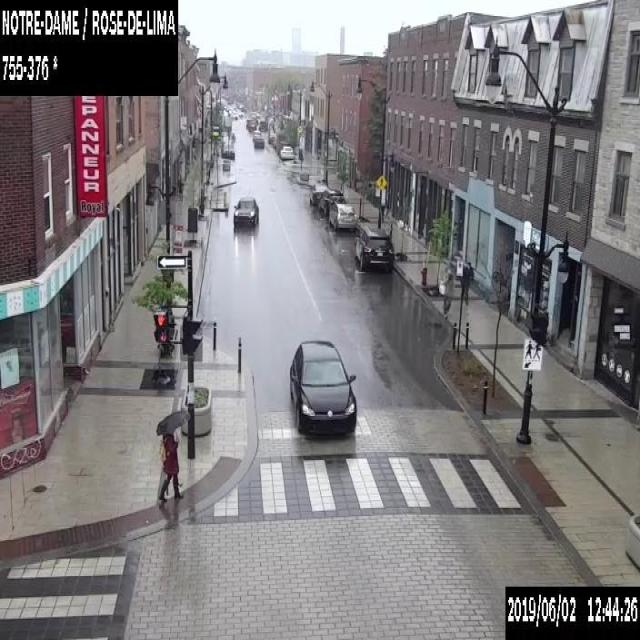pedestrian: (155, 410, 189, 501), (462, 260, 474, 303)
vehicle: (289, 340, 356, 432), (353, 227, 393, 272), (328, 202, 356, 229), (317, 188, 344, 214), (233, 197, 258, 224), (308, 183, 326, 203), (221, 142, 234, 158), (280, 145, 293, 158), (253, 136, 264, 148), (252, 129, 261, 139), (258, 120, 266, 130), (247, 120, 255, 130), (245, 118, 252, 128)
